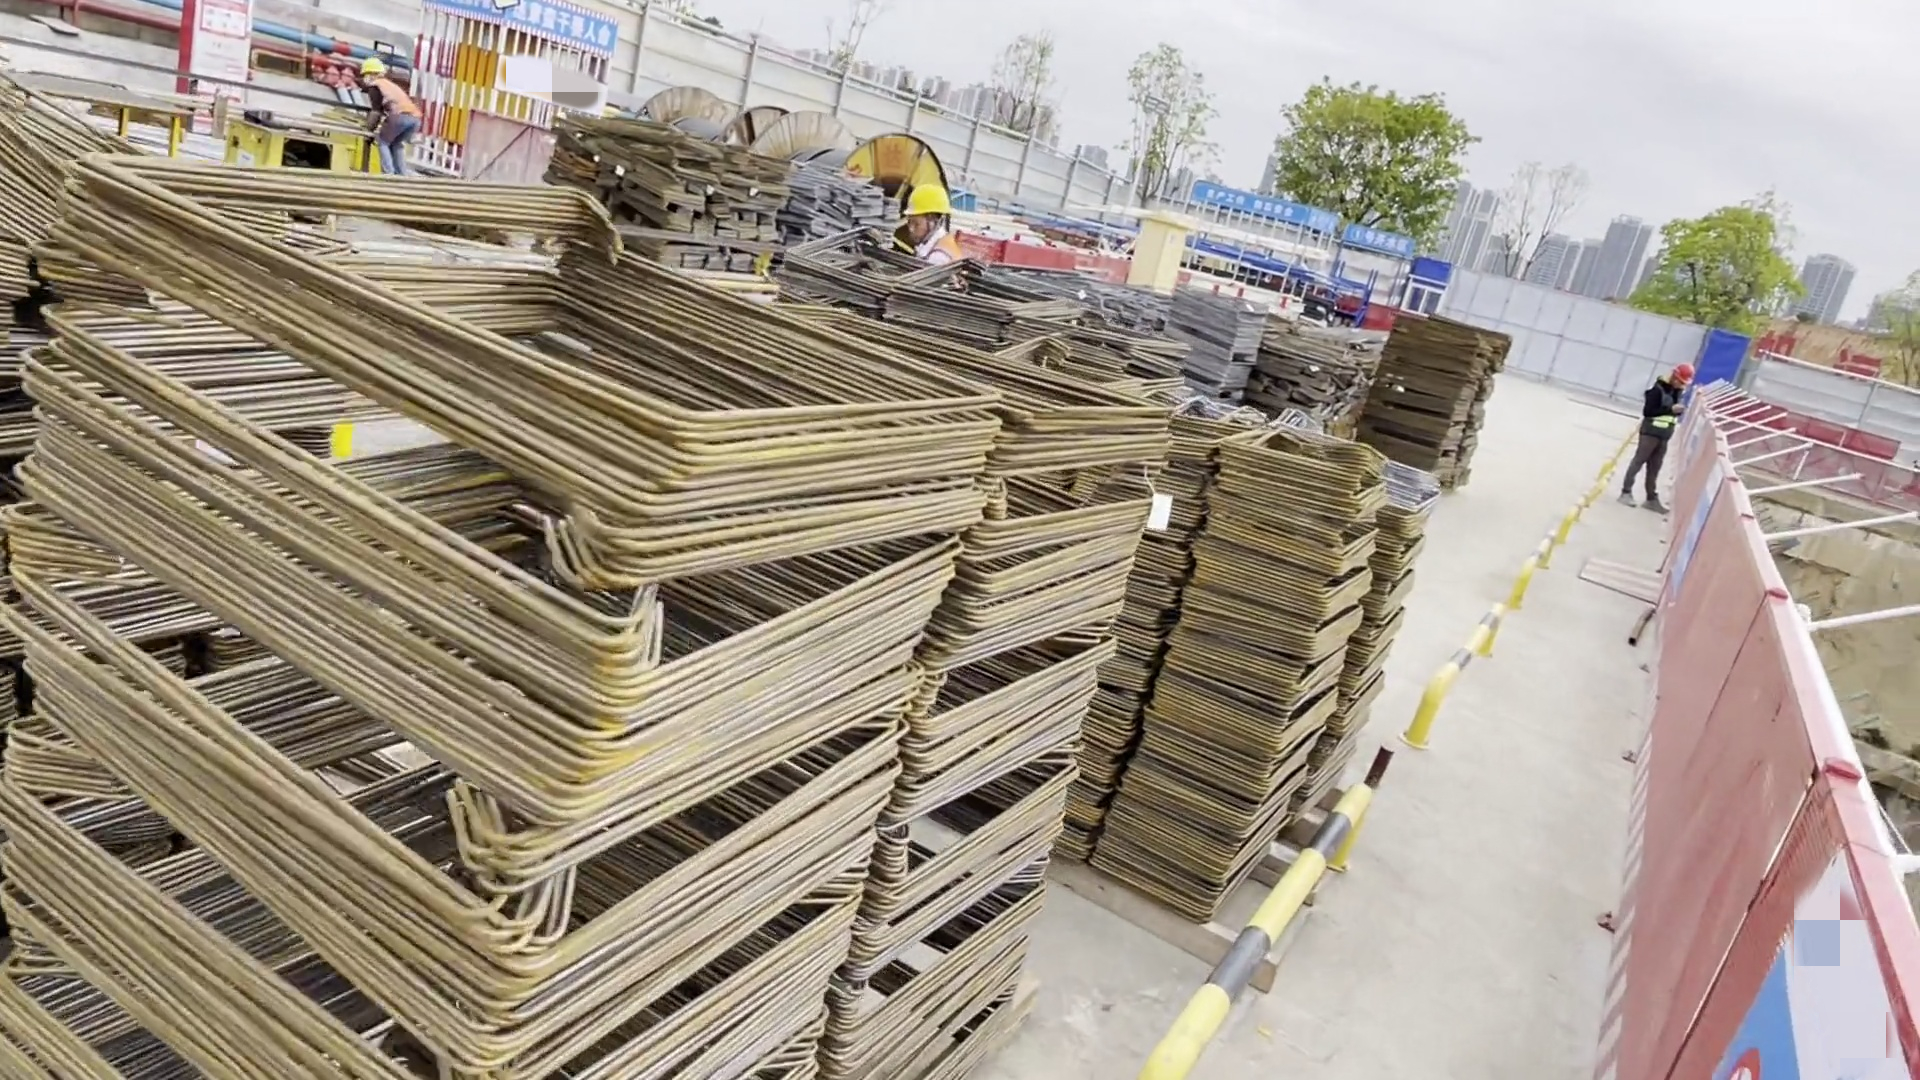cutter: (232, 106, 359, 191)
ebox: (1131, 220, 1183, 295)
fence: (1663, 429, 1910, 1080)
helmet: (900, 183, 948, 216), (360, 57, 395, 83), (1671, 360, 1692, 385)
person: (1613, 363, 1698, 515), (353, 54, 419, 177), (897, 177, 966, 286)
slogan: (1707, 869, 1901, 1080), (1211, 200, 1408, 254), (450, 1, 617, 51)
vest: (376, 79, 415, 117)
